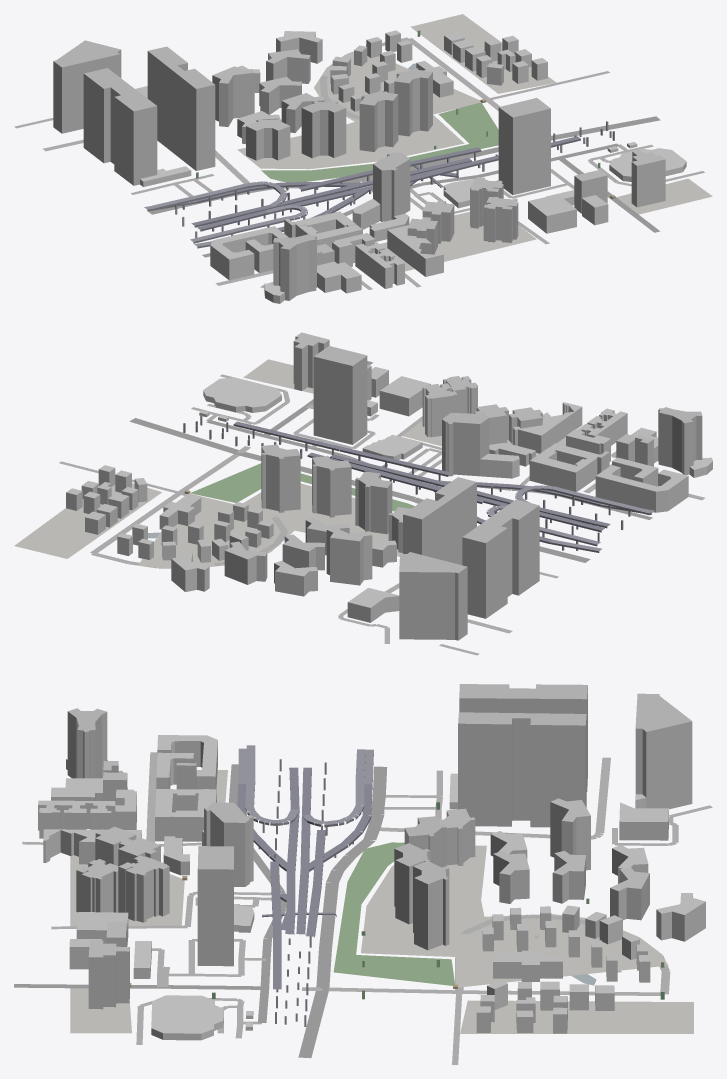
The picture shows the model from 3 angles, top to bottom: view 1: azimuth 30°, elevation 25°; view 2: azimuth 150°, elevation 25°; view 3: azimuth 270°, elevation 25°; orthographic projection. The views are drawn at different scales.
Bounding box in the file's own units: 592 × 91.9 × 561.
